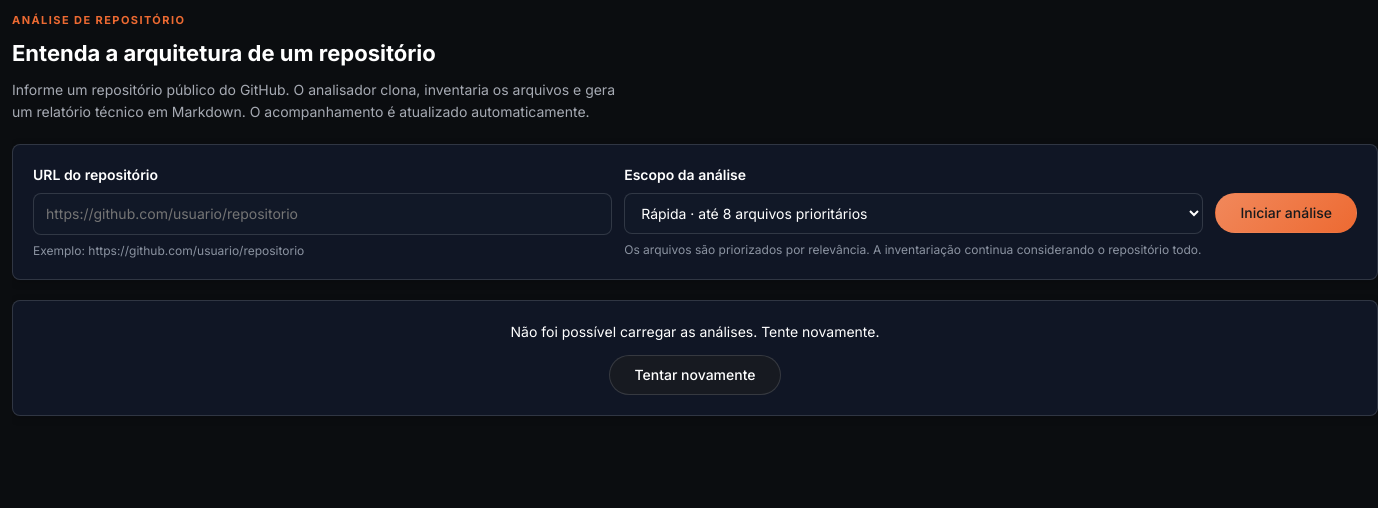
Scenario: erro ao carregar oferece nova tentativa
Expected: the message reads "Não foi possível carregar as análises. Tente novamente.", x1=510 y1=323 x2=880 y2=340
Step 1. Click the button "Tentar novamente" → (695, 375), box x1=610 y1=355 x2=781 y2=395
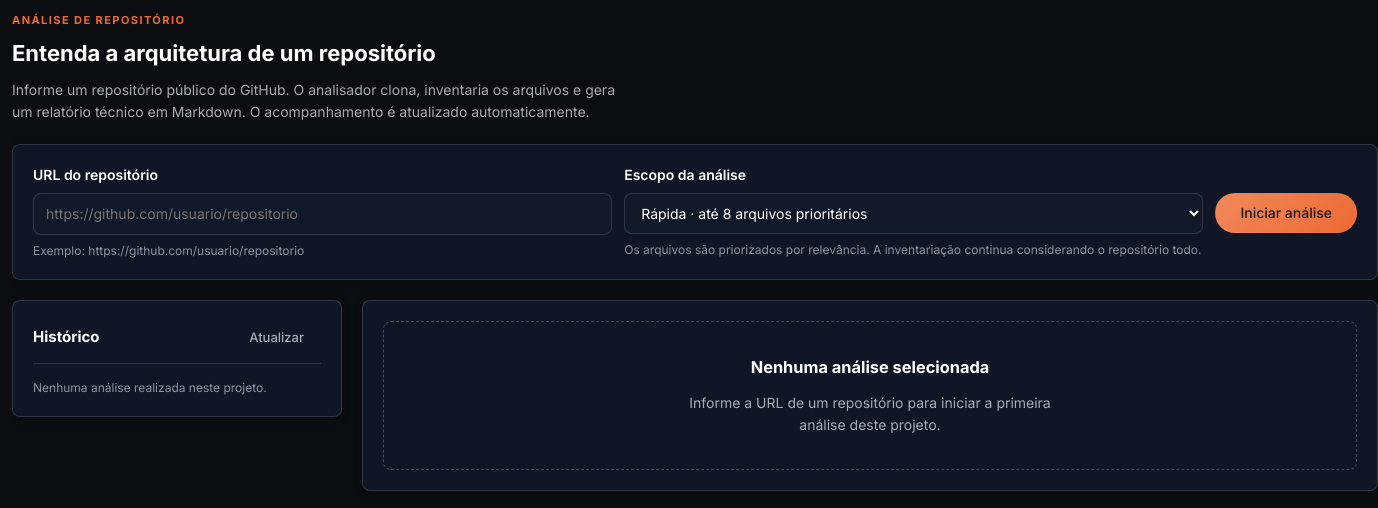
Expected: the text "Nenhuma análise realizada neste projeto." is shown, x1=33 y1=380 x2=267 y2=395
Expected: the heading "Nenhuma análise selecionada" is shown, x1=751 y1=354 x2=989 y2=380
